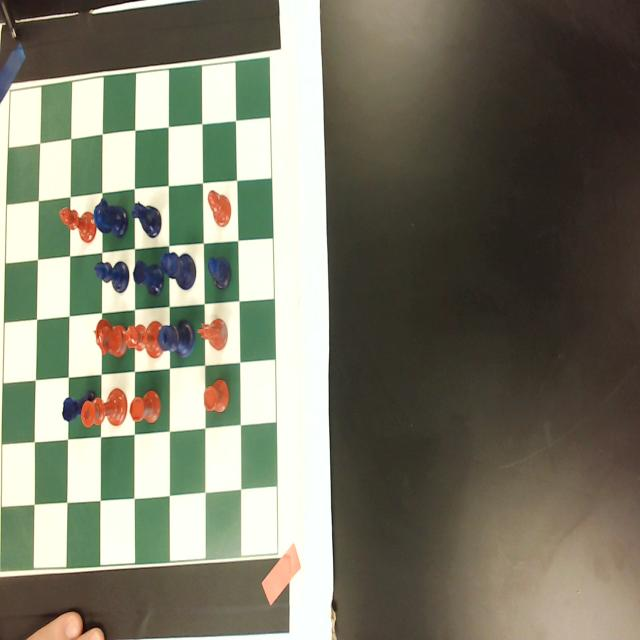B: (93, 260, 130, 294), (206, 253, 232, 293)
K: (158, 320, 195, 361)
N: (93, 198, 129, 242), (130, 199, 162, 238)
Q: (159, 250, 197, 292)
R: (132, 260, 163, 297), (60, 394, 94, 422)
b: (57, 204, 98, 242), (207, 187, 232, 228)
k: (80, 386, 127, 427)
n: (93, 316, 127, 361), (196, 315, 228, 352)
q: (124, 318, 166, 360)
r: (130, 389, 162, 430), (203, 376, 230, 416)
